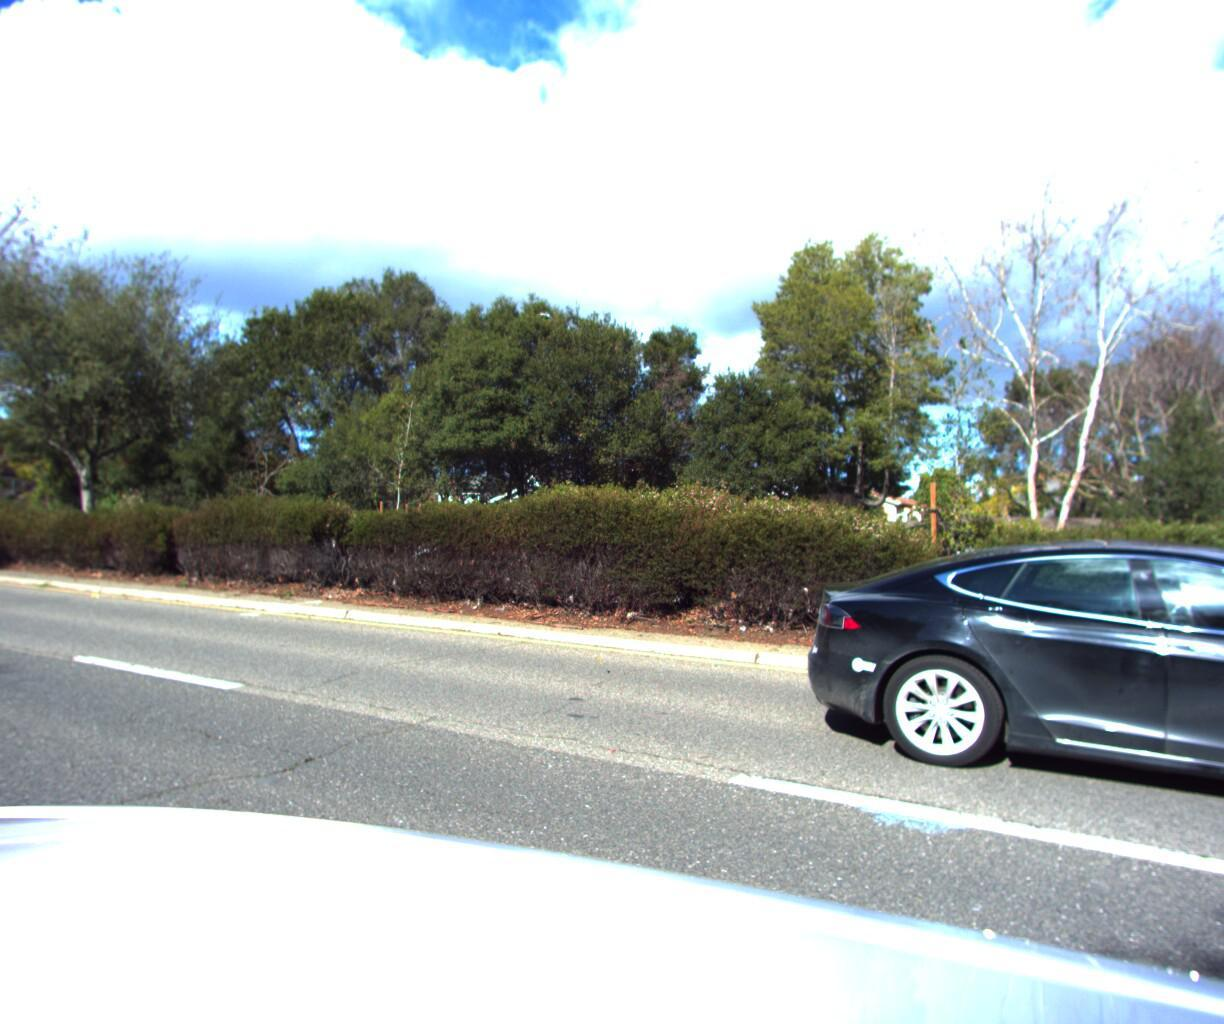car: (751, 518, 1224, 930)
